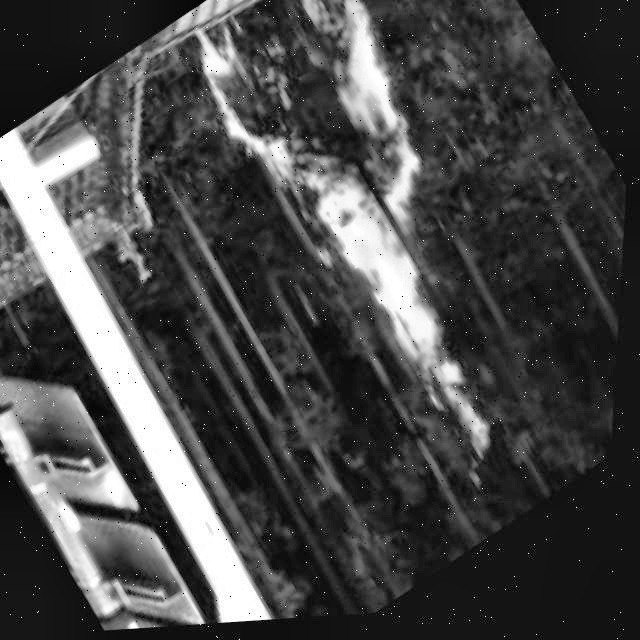Fire: (154, 0, 609, 495)
